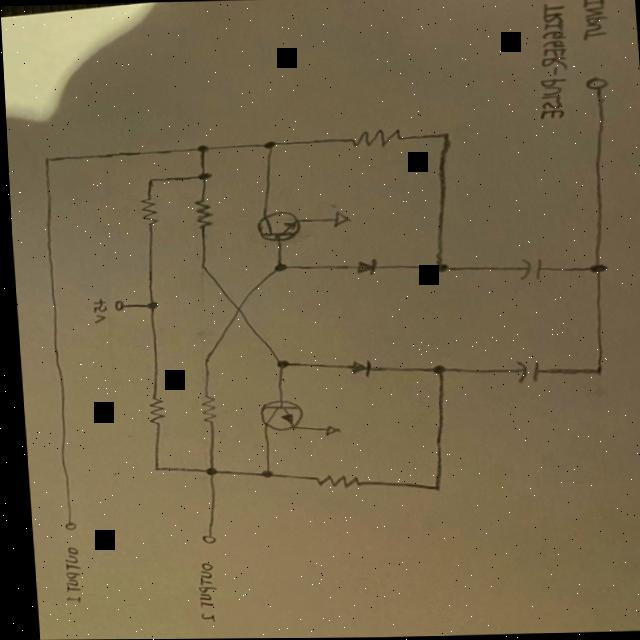capacitor: (507, 357, 537, 386), (512, 257, 541, 283)
diode: (347, 258, 380, 279), (343, 357, 370, 379)
ground: (325, 211, 350, 231), (312, 422, 337, 438)
junction: (418, 359, 447, 380), (421, 259, 448, 279), (416, 478, 444, 497), (577, 259, 605, 276), (579, 362, 605, 380), (251, 138, 280, 154), (219, 300, 246, 317), (260, 259, 286, 276), (247, 466, 274, 482), (430, 128, 452, 147), (262, 355, 289, 370), (189, 463, 214, 479), (30, 153, 57, 167), (186, 142, 210, 157), (192, 352, 213, 369), (187, 167, 212, 181), (136, 298, 156, 314), (187, 260, 207, 276), (139, 461, 158, 475), (135, 174, 157, 186)
resistor: (346, 129, 401, 147), (307, 472, 358, 491), (186, 198, 212, 230), (137, 394, 161, 426), (190, 391, 212, 425), (132, 196, 156, 226)
terminal: (578, 72, 610, 95), (191, 531, 213, 547), (106, 298, 130, 312), (53, 519, 71, 533)
text: (528, 2, 570, 122), (185, 561, 213, 624), (50, 545, 80, 603), (574, 0, 609, 43), (82, 296, 103, 325)
transistor: (252, 398, 299, 434), (250, 210, 298, 244)
